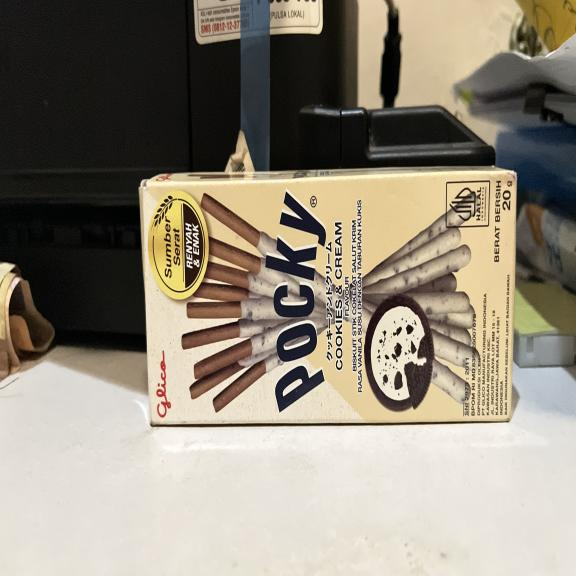Kertas: (144, 170, 518, 425)
